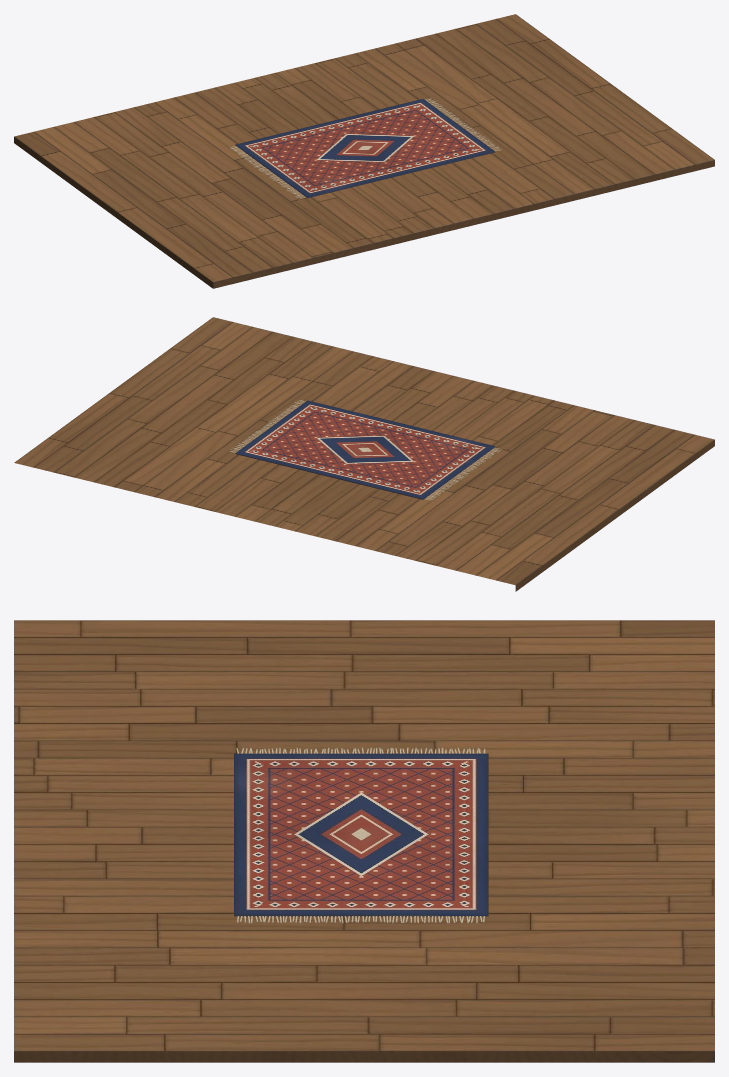
Rendered from floor.glb.
3 views of the same model, one above another, from view 1: azimuth 30°, elevation 25°; view 2: azimuth 150°, elevation 25°; view 3: azimuth 270°, elevation 25° (orthographic). The views are drawn at different scales.
Visible parts, largest first — view 1: floor_boards, floor_rug; view 2: floor_boards, floor_rug; view 3: floor_boards, floor_rug.
Part boxes in pixels (x1,y1,x2,y2): floor_boards: (14,14,714,288); floor_rug: (229,98,501,199); floor_boards: (14,317,714,591); floor_rug: (230,400,502,500); floor_boards: (14,620,714,1062); floor_rug: (234,747,488,923).
Bounding box in the file's own units: 32 × 0.4489 × 22.
Materials: 2 (2 with a texture image).
